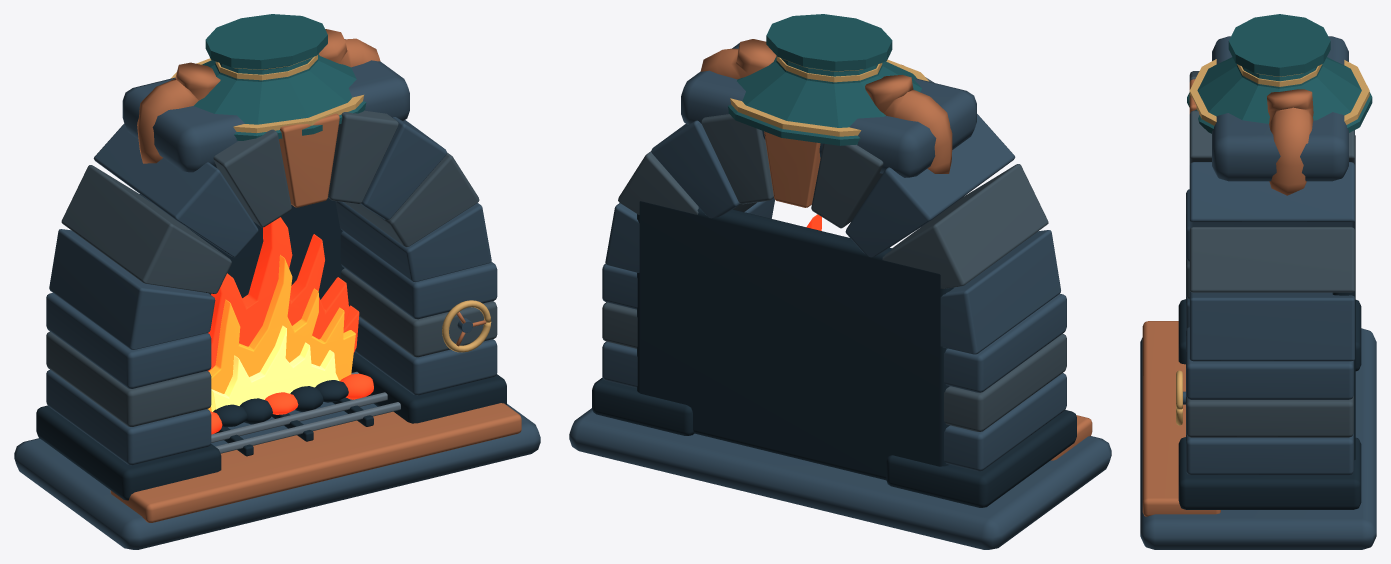
The picture shows the model from 3 angles, left to right: view 1: azimuth 30°, elevation 25°; view 2: azimuth 150°, elevation 25°; view 3: azimuth 270°, elevation 25°; orthographic projection. The views are drawn at different scales.
Visible parts, largest first — view 1: PR020 workshop assembly; view 2: PR020 workshop assembly; view 3: PR020 workshop assembly.
Boxes of the visible parts, x1,y1,x2,y2 form: PR020 workshop assembly: (14, 14, 540, 549); PR020 workshop assembly: (569, 14, 1111, 549); PR020 workshop assembly: (1140, 14, 1376, 549).
Size of the model in its own units: 2.93 by 2.8 by 1.45.
